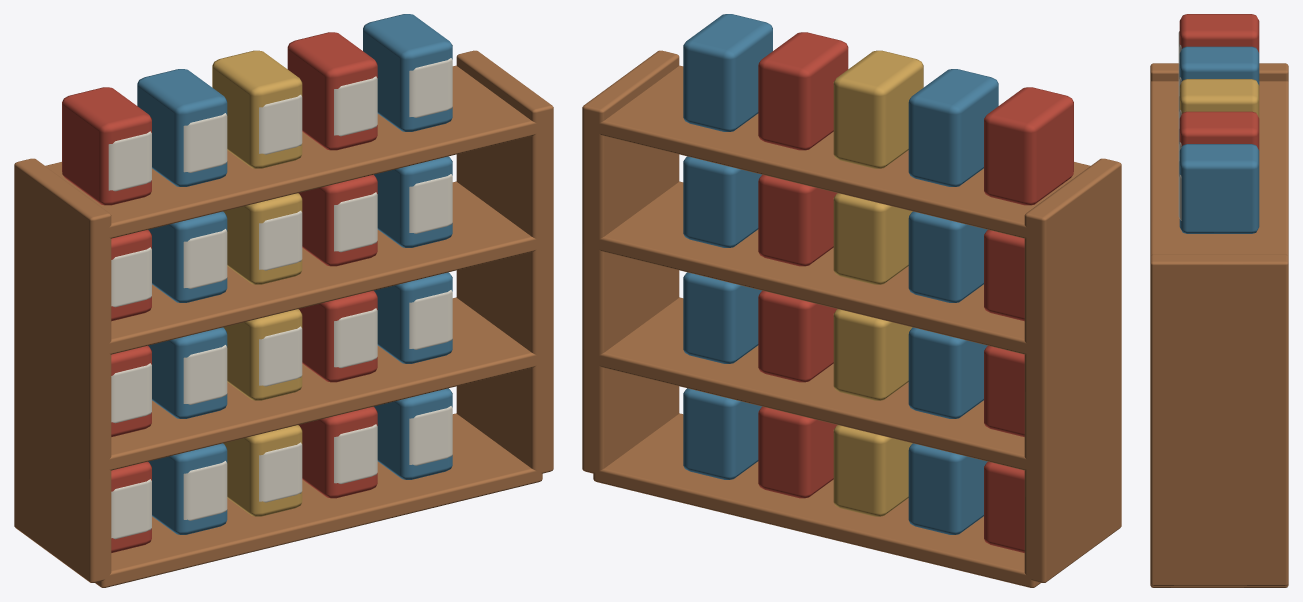
The model's file is wp-bibliotheque-basse.glb.
3 renders of one model, left to right at view 1: azimuth 30°, elevation 25°; view 2: azimuth 150°, elevation 25°; view 3: azimuth 270°, elevation 25°, orthographic. The views are drawn at different scales.
Visible parts, largest first — view 1: wp-bibliotheque-basse; view 2: wp-bibliotheque-basse; view 3: wp-bibliotheque-basse.
Boxes of the visible parts, box(x1,y1,x2,y2) form: wp-bibliotheque-basse: box(14, 14, 553, 587); wp-bibliotheque-basse: box(582, 14, 1121, 587); wp-bibliotheque-basse: box(1150, 14, 1288, 587).
Size of the model in its own units: 1.2 by 1.1 by 0.35.
